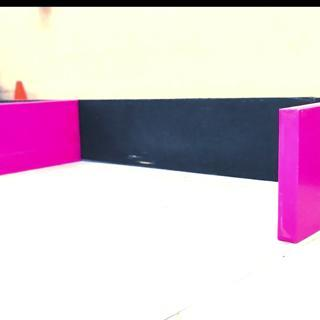xparking: (280, 109, 319, 238), (1, 104, 78, 166)
